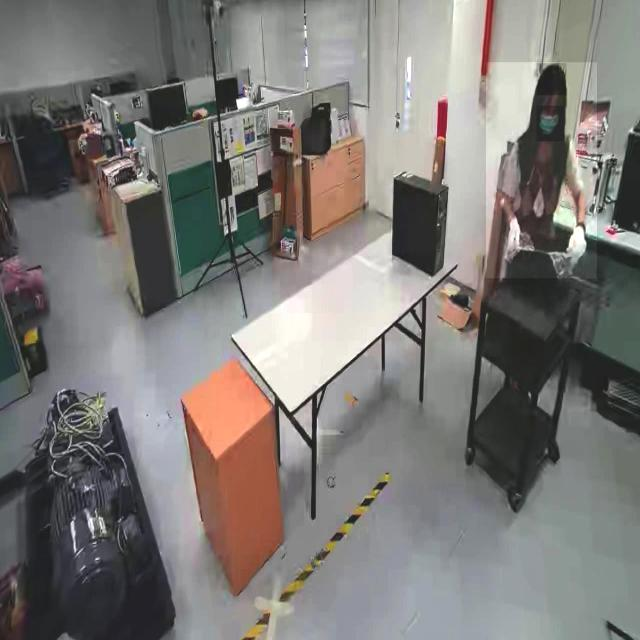face_mask: (536, 106, 564, 141)
hand_glove: (566, 219, 590, 265), (504, 214, 522, 262)
head_nohelmet: (536, 63, 566, 96)
person: (485, 62, 597, 279)
